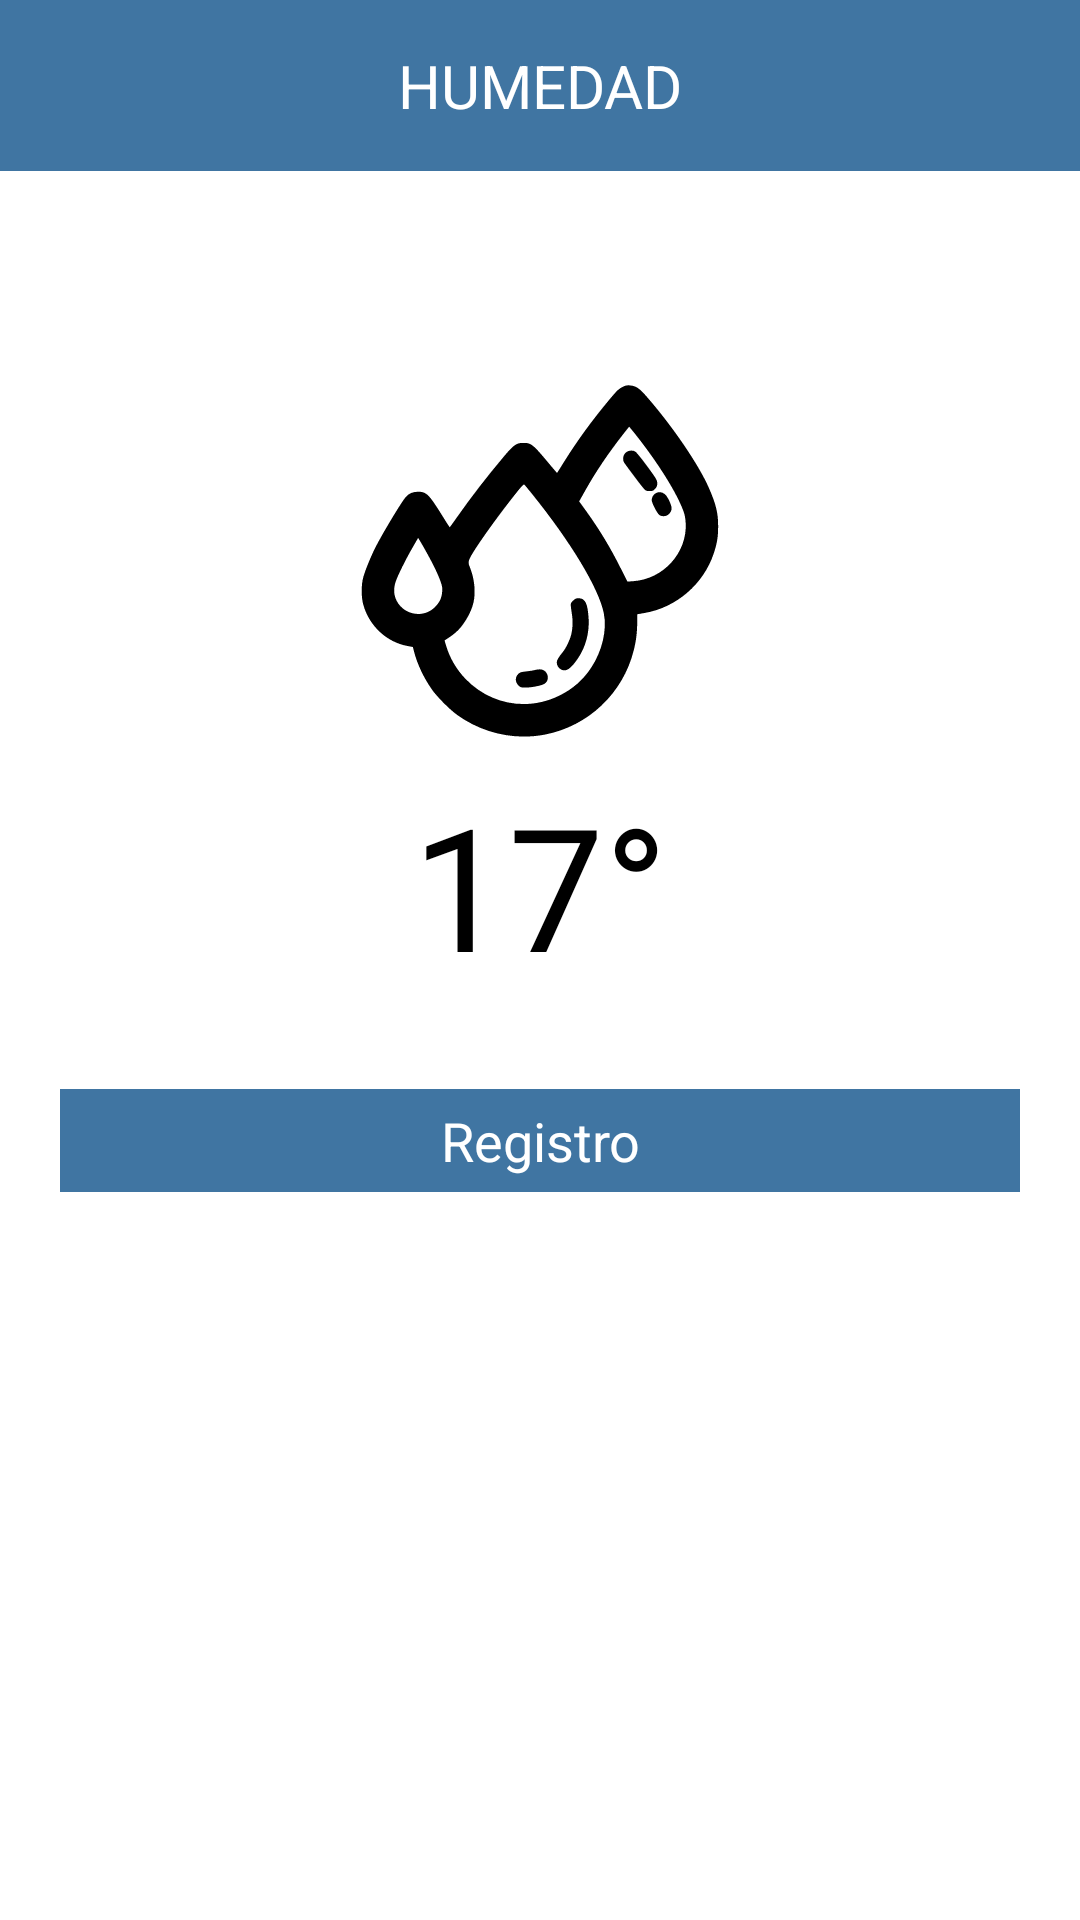

Where icons sit on this 1080x1920 app screen, as box=[x1, y1, x2, y2]:
humity: box=[361, 385, 719, 737]
